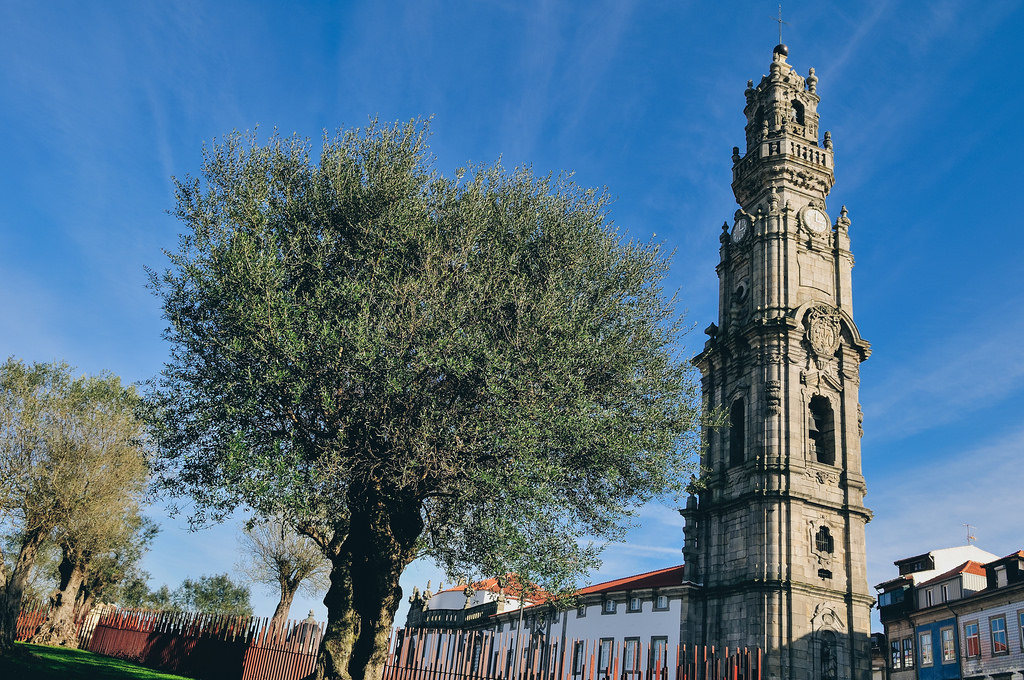clerigos: (676, 0, 879, 679)
